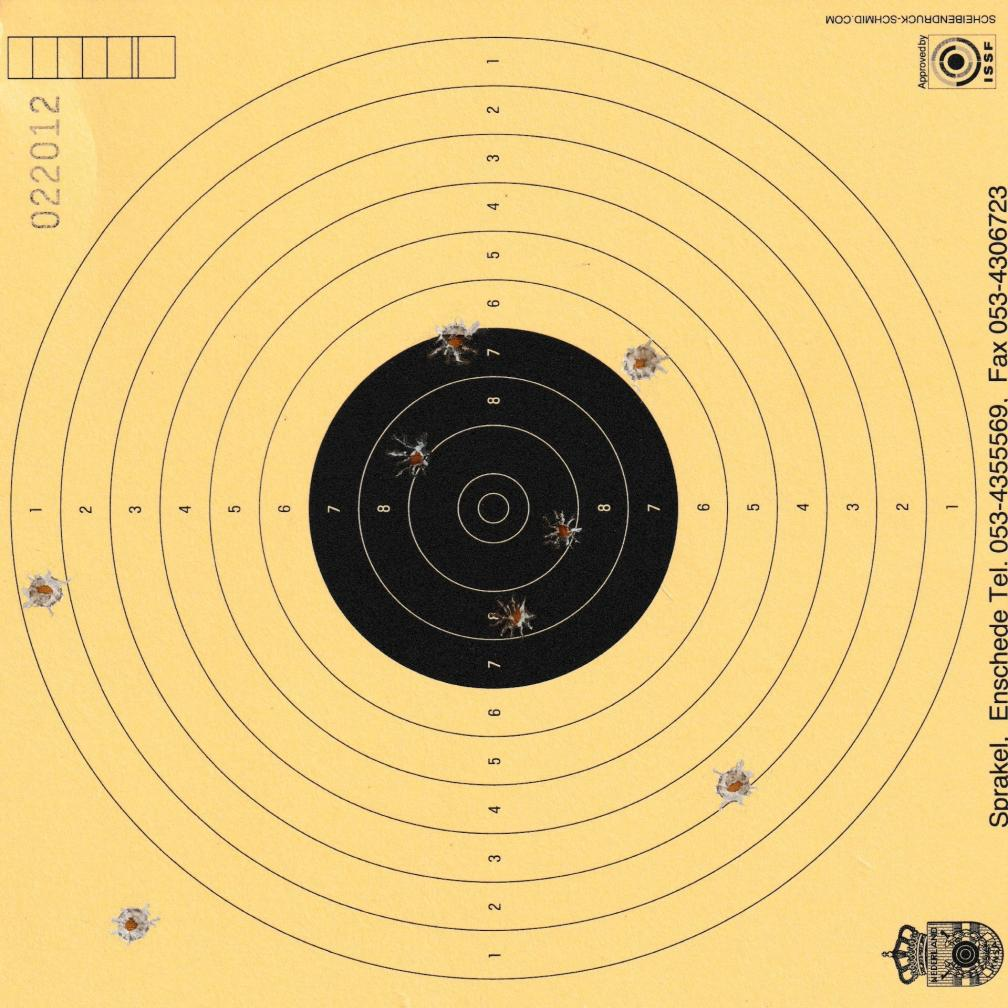0: (111, 899, 162, 947)
1: (23, 573, 64, 613)
3: (711, 762, 756, 807)
6: (621, 338, 673, 381)
7: (434, 324, 477, 362)
8: (486, 598, 544, 640)
9: (388, 433, 430, 480), (543, 514, 577, 551)
Target: (7, 34, 979, 984)
black_contour: (308, 327, 680, 689)
